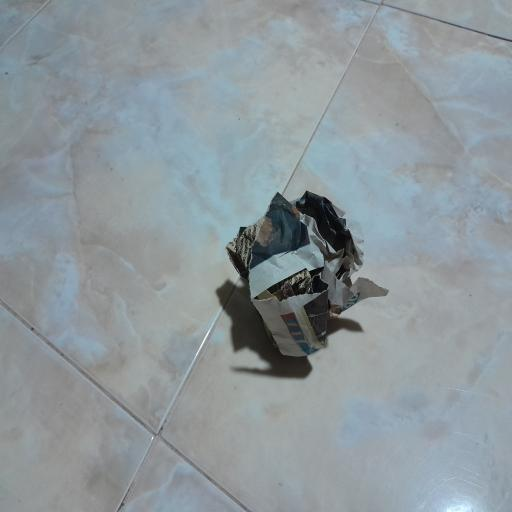waste: (221, 185, 383, 371)
